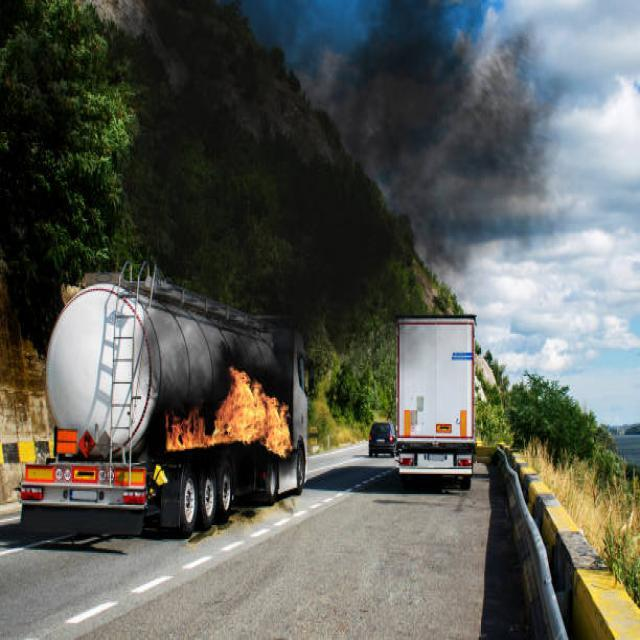Fire: (166, 368, 294, 458)
Smoke: (116, 0, 554, 349)
